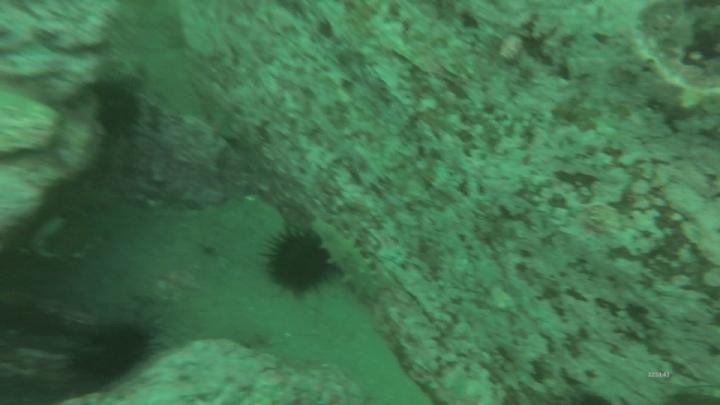echinus: (267, 238, 324, 293), (90, 328, 148, 376), (100, 85, 137, 135)
holothurian: (314, 219, 386, 301)
